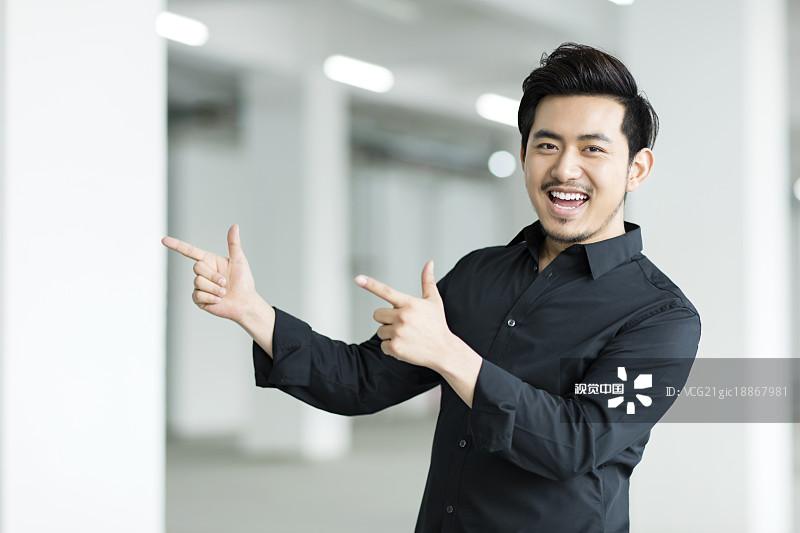no-phone: (347, 250, 463, 387), (145, 221, 276, 333)
